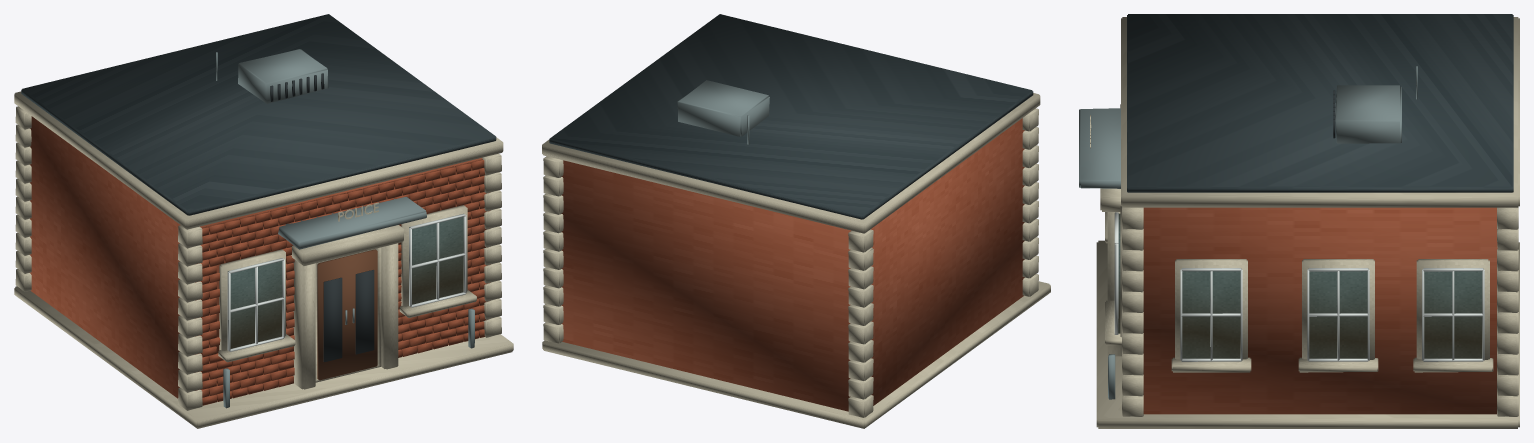
3 renders of one model, left to right at view 1: azimuth 30°, elevation 25°; view 2: azimuth 150°, elevation 25°; view 3: azimuth 270°, elevation 25°, orthographic. The views are drawn at different scales.
Parts seen in each view (by area): view 1: police_station__static_slate, police_station__static_warm_brick, police_station__static_limestone, police_station__static_patinated_metal, police_station__static_warm_glazing, police_station__door_01__recessed_entrance_leaf, police_station__static_civic_pale_painted_trim, police_station__door_01, police_station__door_01__door_inset_panel, police_station__static_recess_/_shadow_joints; view 2: police_station__static_warm_brick, police_station__static_slate, police_station__static_limestone, police_station__static_patinated_metal; view 3: police_station__static_slate, police_station__static_warm_brick, police_station__static_limestone, police_station__static_warm_glazing, police_station__static_patinated_metal, police_station__static_civic_pale_painted_trim.
Part boxes in pixels (left/top/right/bottom): police_station__static_slate: left=21, top=14, right=496, bottom=215; police_station__static_warm_brick: left=29, top=116, right=490, bottom=405; police_station__static_limestone: left=14, top=91, right=513, bottom=428; police_station__static_patinated_metal: left=216, top=49, right=474, bottom=408; police_station__static_warm_glazing: left=227, top=216, right=463, bottom=348; police_station__door_01__recessed_entrance_leaf: left=317, top=249, right=377, bottom=380; police_station__static_civic_pale_painted_trim: left=227, top=213, right=466, bottom=351; police_station__door_01: left=352, top=270, right=374, bottom=354; police_station__door_01__door_inset_panel: left=323, top=277, right=342, bottom=362; police_station__static_recess_/_shadow_joints: left=270, top=73, right=324, bottom=101; police_station__static_warm_brick: left=561, top=118, right=1024, bottom=411; police_station__static_slate: left=549, top=14, right=1033, bottom=219; police_station__static_limestone: left=542, top=93, right=1050, bottom=428; police_station__static_patinated_metal: left=677, top=80, right=769, bottom=144; police_station__static_slate: left=1127, top=14, right=1513, bottom=192; police_station__static_warm_brick: left=1143, top=207, right=1497, bottom=414; police_station__static_limestone: left=1090, top=17, right=1519, bottom=428; police_station__static_warm_glazing: left=1118, top=213, right=1482, bottom=358; police_station__static_patinated_metal: left=1079, top=66, right=1417, bottom=399; police_station__static_civic_pale_painted_trim: left=1114, top=212, right=1484, bottom=361.
Size of the model in its own units: 7.2 by 5 by 7.29.
Materials: 8 (4 with a texture image).
